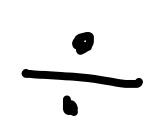div: (22, 31, 143, 115)
